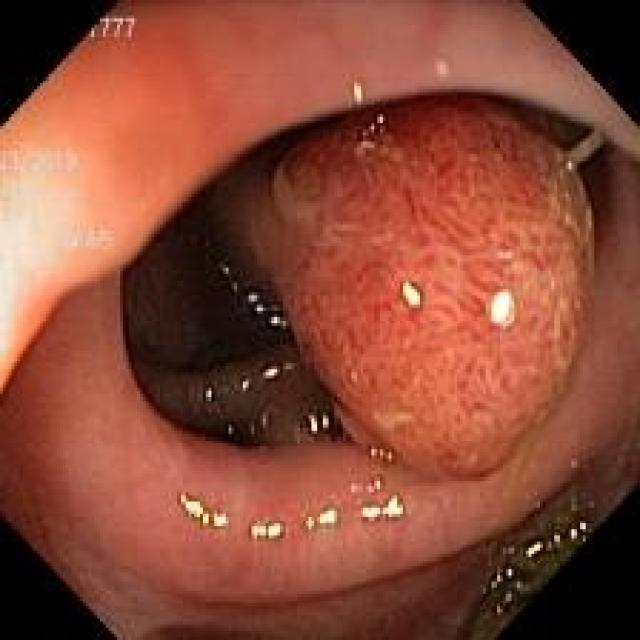Polyps: (258, 94, 596, 477)
